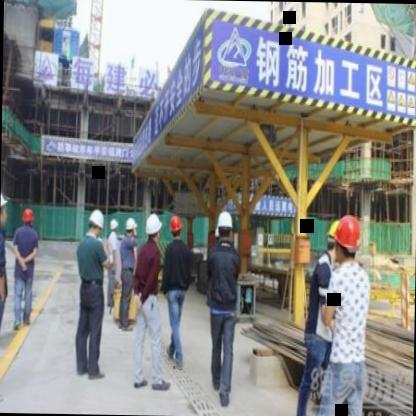helmet: (334, 210, 362, 262), (142, 211, 164, 247), (166, 207, 188, 242), (212, 210, 233, 246), (324, 217, 341, 260), (85, 204, 104, 242), (123, 214, 141, 242), (19, 202, 36, 230), (0, 188, 7, 227), (107, 214, 119, 235)
